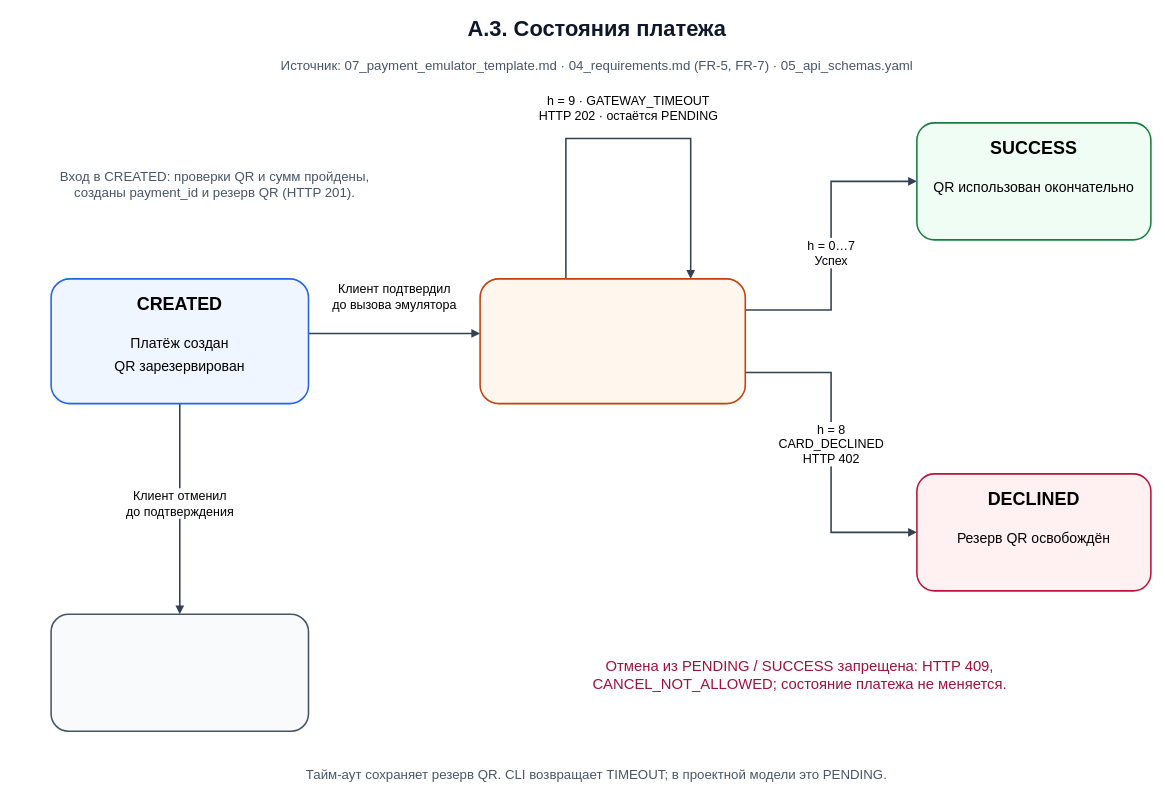
Some shapes in this 1165 by 803 pixel diagram are drawn without their labels. Each missing label, with the box of its shape:
CANCELED Резерв QR освобождён: (50, 613, 309, 732)
PENDING Подтверждён, в обработке Результат может быть неизвестен: (479, 278, 746, 404)
